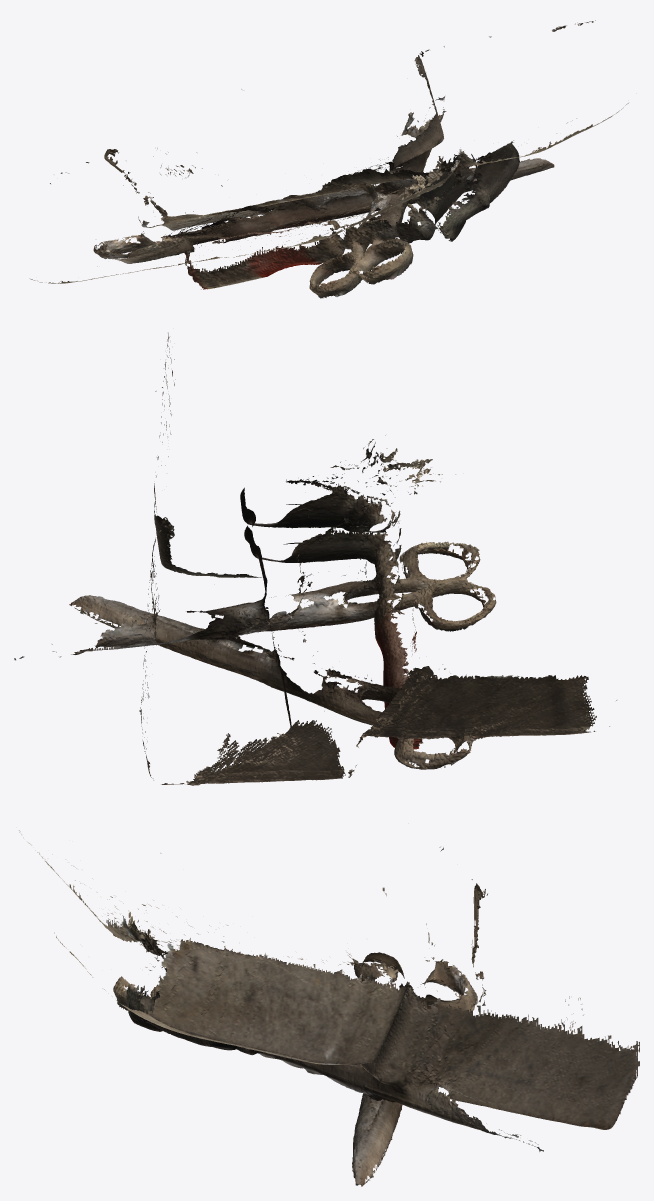
Rendered from dtu_37_compressed.glb.
3 renders of one model, top to bottom at view 1: azimuth 30°, elevation 25°; view 2: azimuth 150°, elevation 25°; view 3: azimuth 270°, elevation 25°, orthographic. The views are drawn at different scales.
Visible parts, largest first — view 1: test_37; view 2: test_37; view 3: test_37.
Boxes of the visible parts, x1,y1,x2,y2 form: test_37: [29, 20, 628, 298]; test_37: [14, 332, 616, 785]; test_37: [19, 830, 639, 1186].
Bounding box in the file's own units: 394 × 187 × 360.
